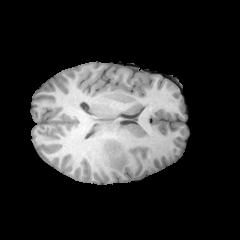glioma: (101, 139, 133, 172)
